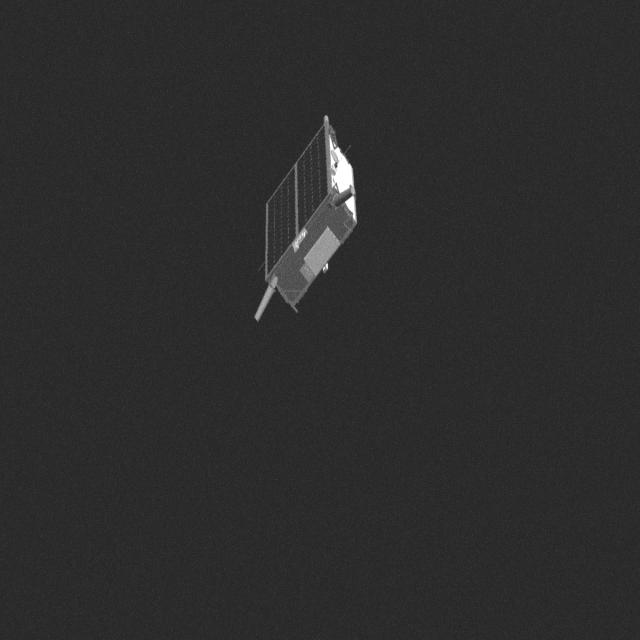medium_debris: (234, 112, 364, 334)
